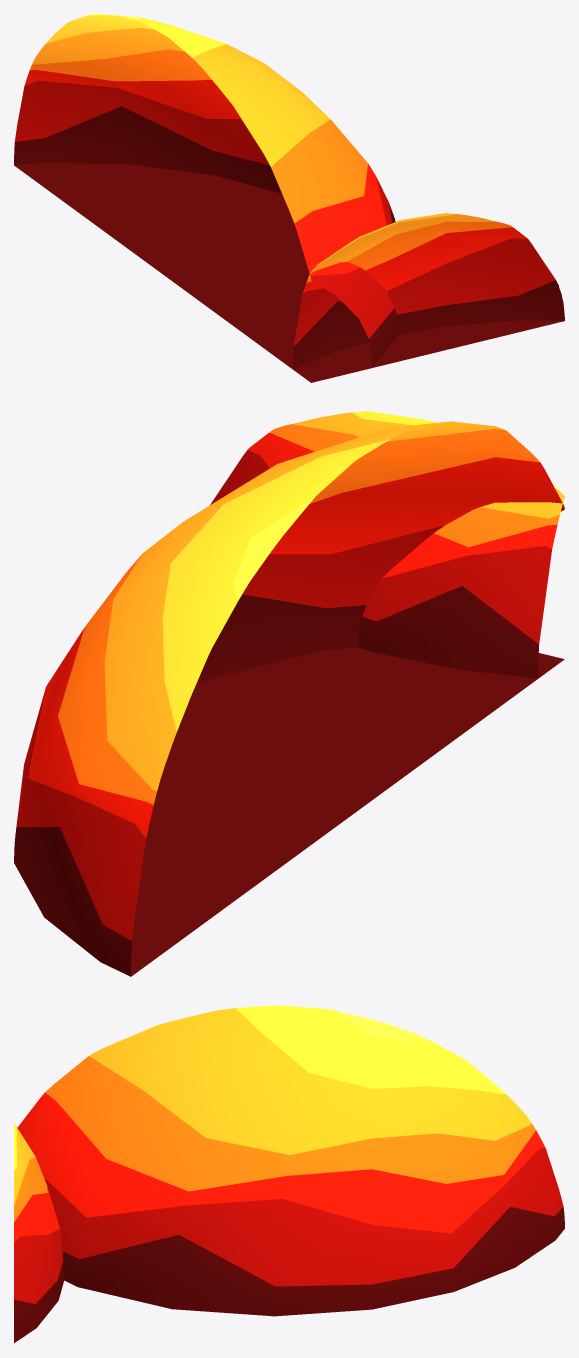
Rendered from shot_charge_b209.glb.
3 views of the same model, one above another, from view 1: azimuth 30°, elevation 25°; view 2: azimuth 150°, elevation 25°; view 3: azimuth 270°, elevation 25° (orthographic). The views are drawn at different scales.
Parts seen in each view (by area): view 1: charge_twin7_b_fire_shot_charge_b209, charge_twin7_a_fire_shot_charge_b209; view 2: charge_twin7_b_fire_shot_charge_b209, charge_twin7_a_fire_shot_charge_b209; view 3: charge_twin7_b_fire_shot_charge_b209, charge_twin7_a_fire_shot_charge_b209.
Part boxes in pixels (box(x1,y1,x2,y2)): charge_twin7_b_fire_shot_charge_b209: box(14, 14, 398, 382); charge_twin7_a_fire_shot_charge_b209: box(292, 213, 564, 382); charge_twin7_b_fire_shot_charge_b209: box(14, 421, 564, 976); charge_twin7_a_fire_shot_charge_b209: box(210, 411, 564, 678); charge_twin7_b_fire_shot_charge_b209: box(17, 1005, 564, 1316); charge_twin7_a_fire_shot_charge_b209: box(14, 1124, 64, 1342).
Bounding box in the file's own units: 5.24 × 4.75 × 10.62.
